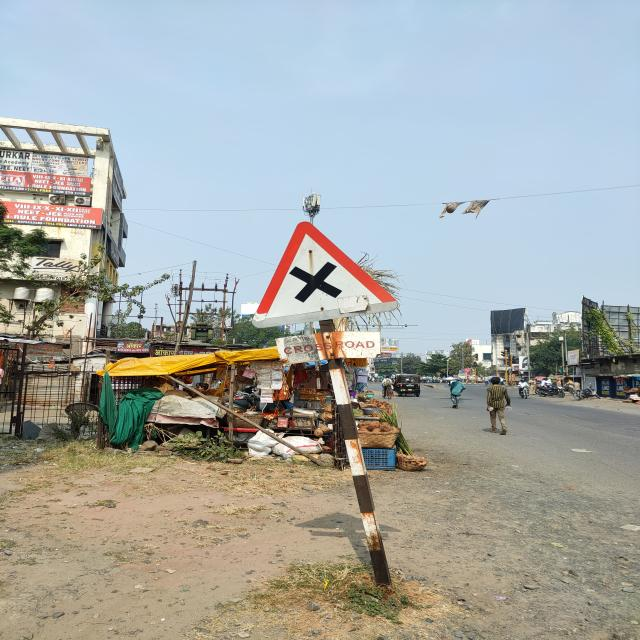cross_road: (247, 222, 401, 332)
